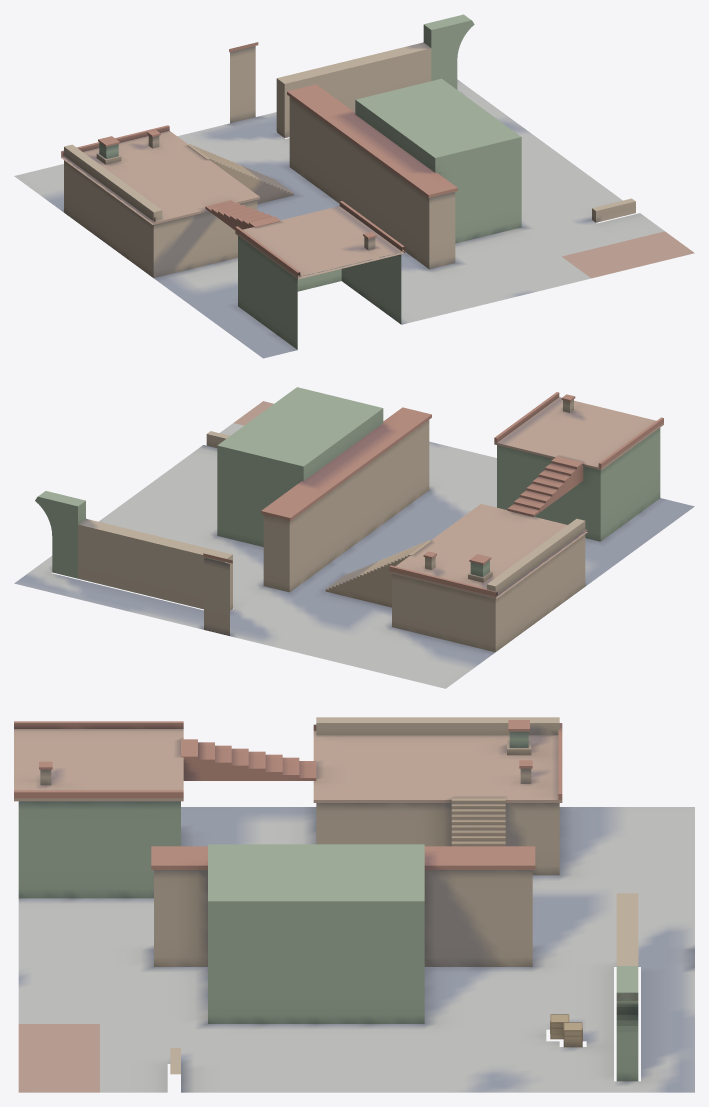
3 renders of one model, top to bottom at view 1: azimuth 30°, elevation 25°; view 2: azimuth 150°, elevation 25°; view 3: azimuth 270°, elevation 25°, orthographic. The views are drawn at different scales.
Parts seen in each view (by area): view 1: t; view 2: t; view 3: t.
Part boxes in pixels (x1,y1,x2,y2): t: [14, 14, 694, 358]; t: [14, 387, 694, 688]; t: [14, 717, 694, 1092].
Size of the model in its own units: 50.2 by 10 by 50.35.
